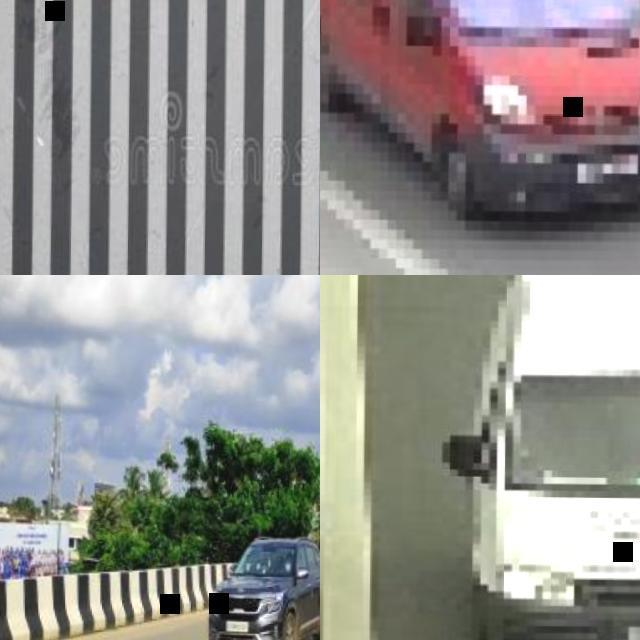car: (324, 0, 639, 223), (207, 537, 322, 635)
